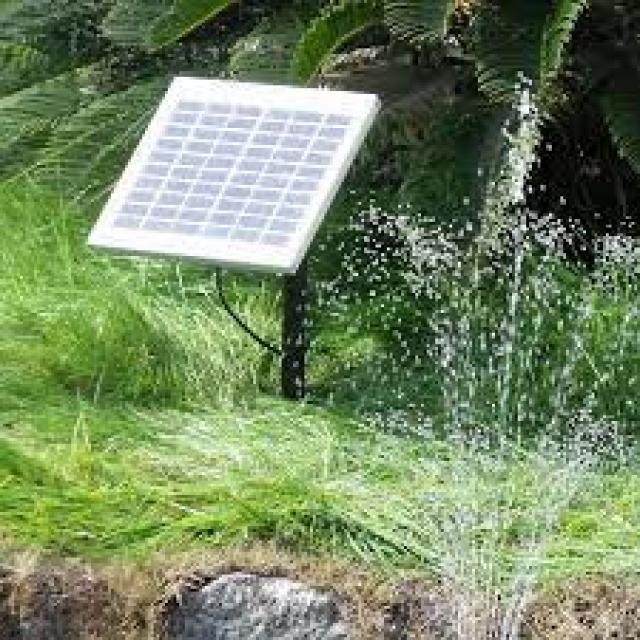no faulty: (111, 98, 337, 253)
